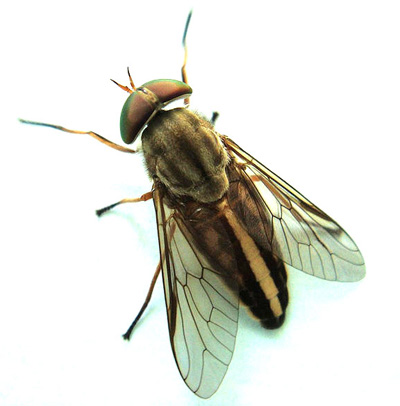fly: (12, 7, 369, 406)
